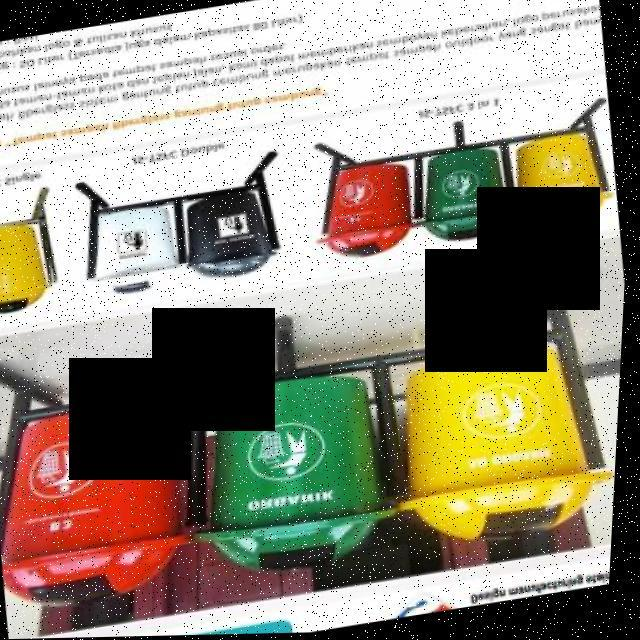bin: (363, 314, 626, 572), (166, 343, 421, 599), (0, 384, 214, 623), (180, 178, 297, 289), (0, 206, 75, 326)
